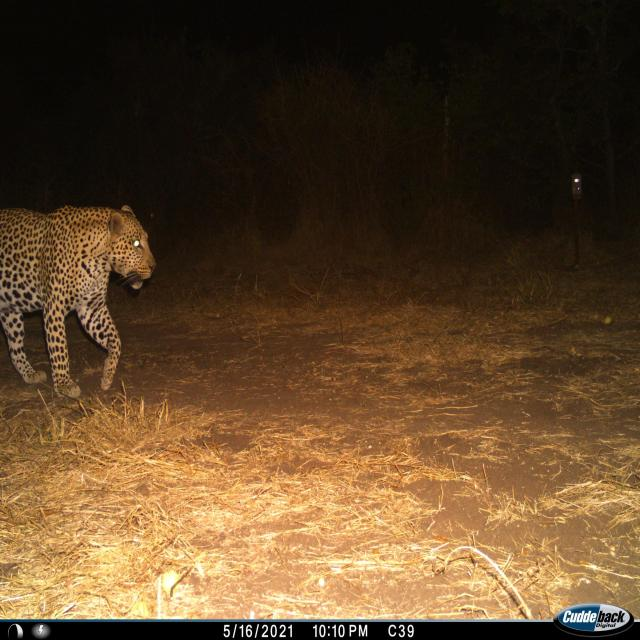Leopard: (0, 190, 159, 412)
